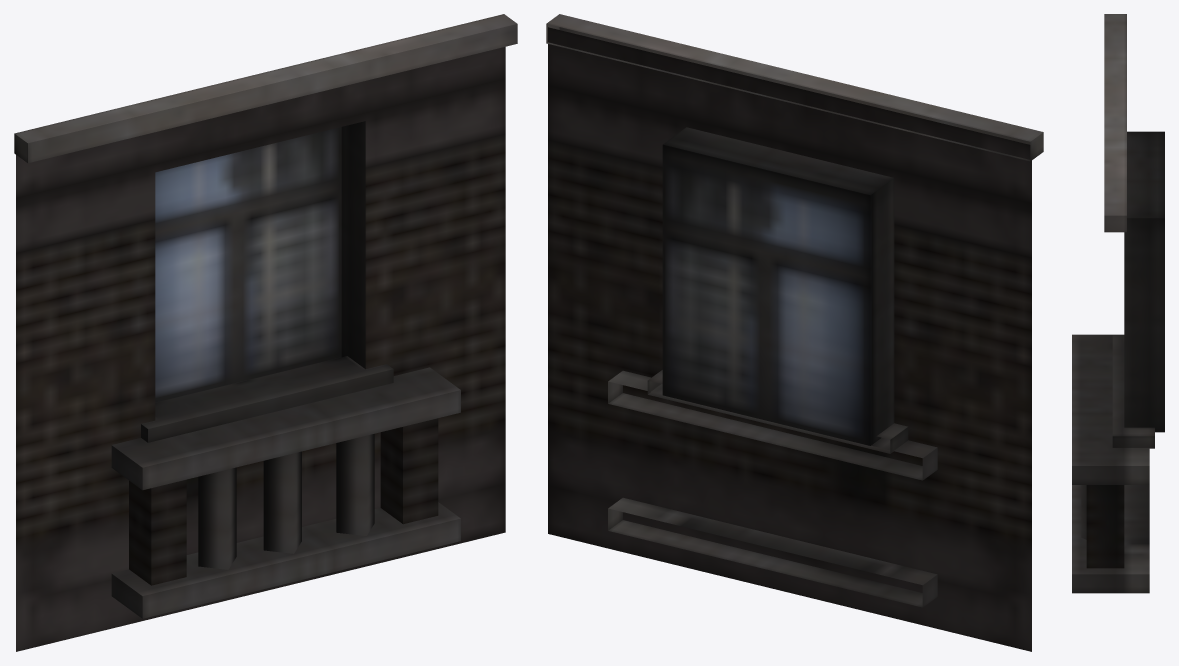
Rendered from B10_WindowB.FBX.
The picture shows the model from 3 angles, left to right: view 1: azimuth 30°, elevation 25°; view 2: azimuth 150°, elevation 25°; view 3: azimuth 270°, elevation 25°; orthographic projection. The views are drawn at different scales.
Parts seen in each view (by area): view 1: B10_WindowB; view 2: B10_WindowB; view 3: B10_WindowB.
Part boxes in pixels (bbox=[...]): B10_WindowB: bbox=[14, 14, 517, 651]; B10_WindowB: bbox=[546, 14, 1043, 651]; B10_WindowB: bbox=[1072, 14, 1164, 593].
Bounding box in the file's own units: 4 × 4.04 × 0.7787.
